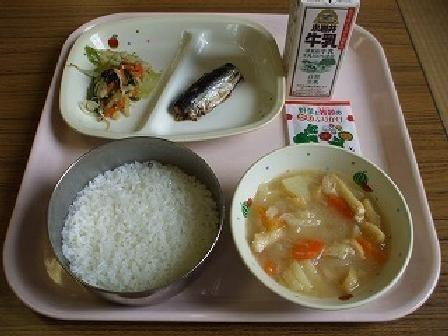Fish: (167, 50, 256, 132)
Milk: (273, 3, 372, 100)
Rice: (45, 140, 229, 297)
Salad: (72, 36, 157, 131)
Soups: (247, 155, 410, 300)
